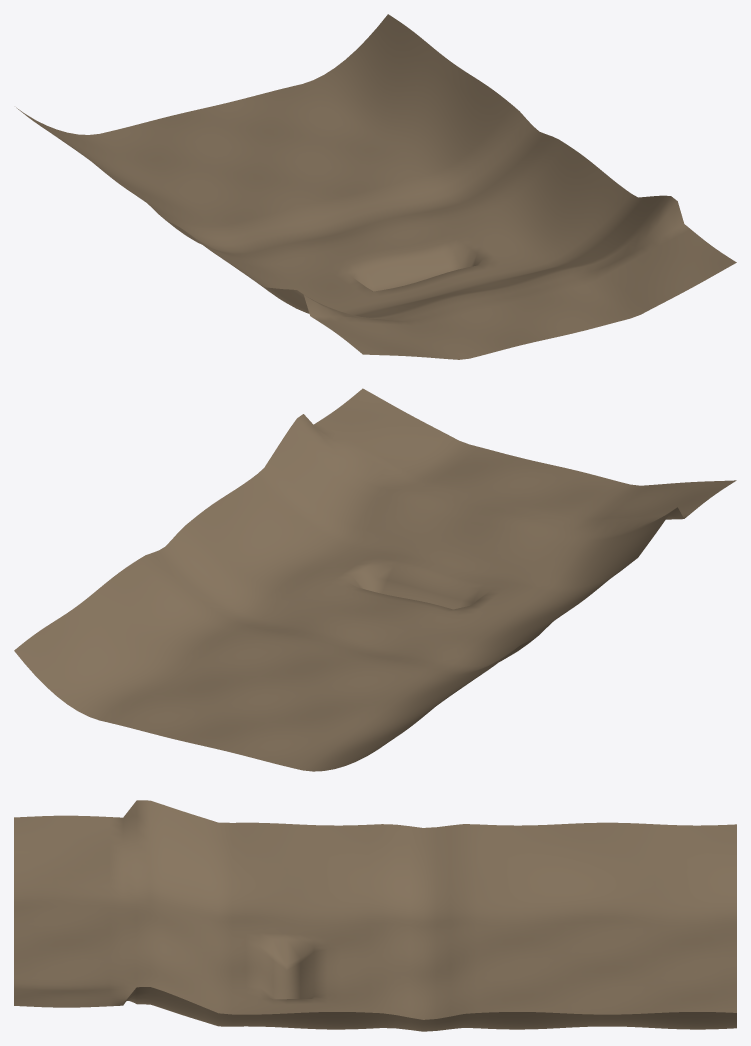
The model's file is stylized_forest_terrain.glb.
The picture shows the model from 3 angles, top to bottom: view 1: azimuth 30°, elevation 25°; view 2: azimuth 150°, elevation 25°; view 3: azimuth 270°, elevation 25°; orthographic projection. The views are drawn at different scales.
Parts seen in each view (by area): view 1: ForestTerrain; view 2: ForestTerrain; view 3: ForestTerrain.
Boxes of the visible parts, x1=… form: ForestTerrain: x1=16, y1=14, x2=736, y2=359; ForestTerrain: x1=14, y1=388, x2=736, y2=771; ForestTerrain: x1=14, y1=800, x2=736, y2=1031.
Bounding box in the file's own units: 52 × 12.45 × 84.
